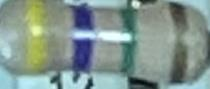Blue: (71, 6, 95, 72)
Green: (117, 6, 137, 76)
Side-Silver: (168, 2, 187, 82)
Yellow: (25, 1, 47, 74)
